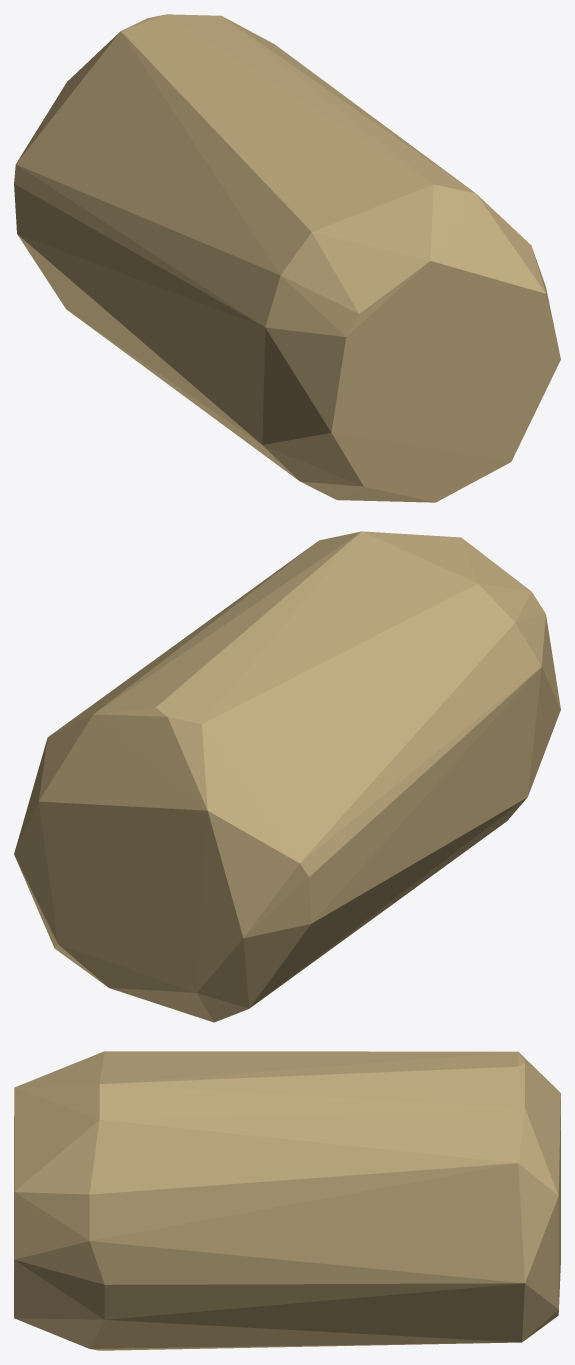
File: food_beverage_can_k01.glb
3 views of the same model, one above another, from view 1: azimuth 30°, elevation 25°; view 2: azimuth 150°, elevation 25°; view 3: azimuth 270°, elevation 25° (orthographic). The views are drawn at different scales.
Visible parts, largest first — view 1: geometry_0; view 2: geometry_0; view 3: geometry_0.
Part boxes in pixels (x1,y1,x2,y2): geometry_0: [14, 14, 560, 502]; geometry_0: [14, 531, 560, 1022]; geometry_0: [14, 1051, 560, 1350].
Bounding box in the file's own units: 0.2633 × 0.2659 × 0.48.
